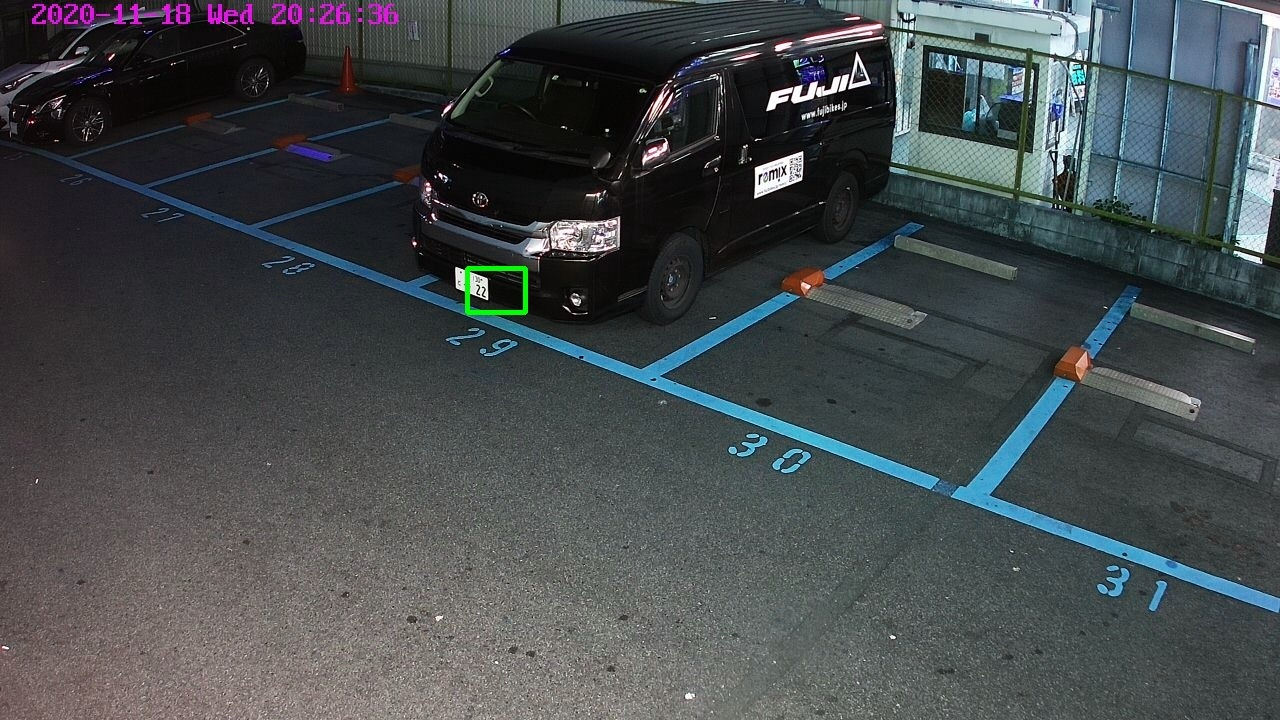number_plate: (451, 267, 489, 300)
